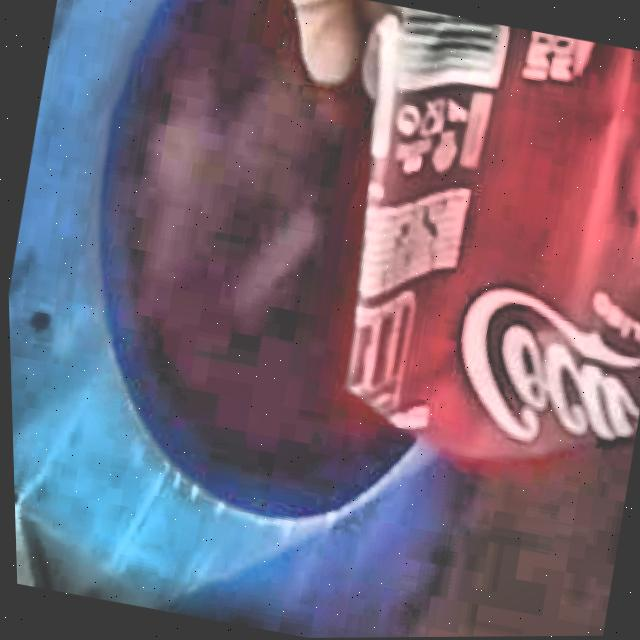metal: (345, 6, 640, 461)
